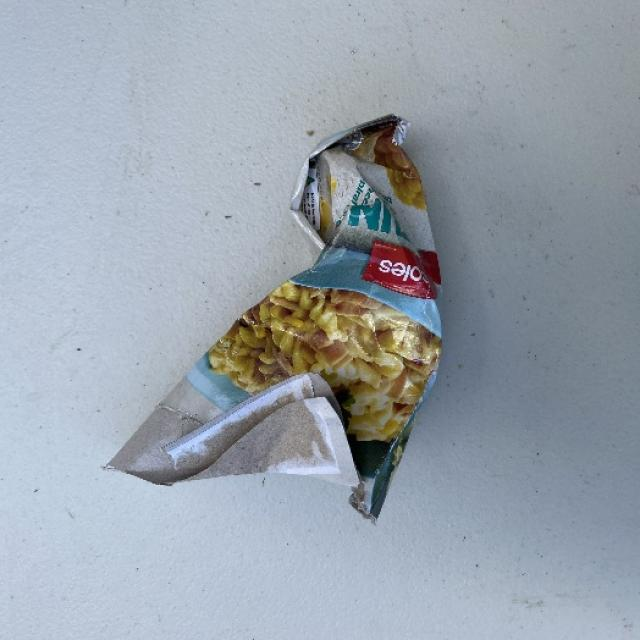kertas: (100, 109, 450, 526)
